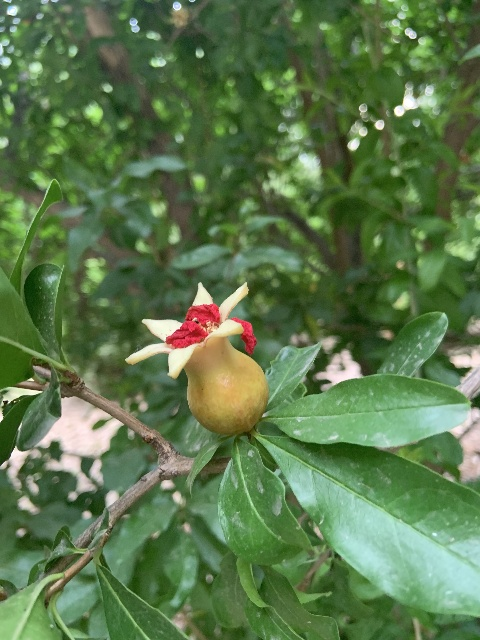early-fruit: (125, 280, 267, 436)
